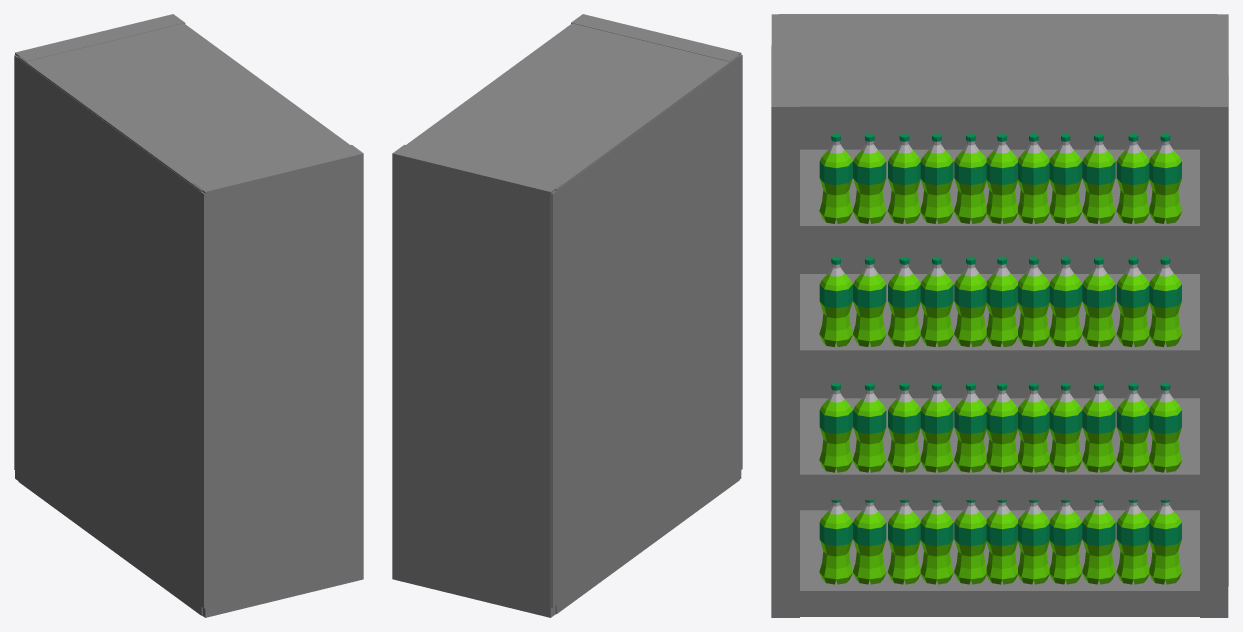
File: cream_soda_shelf.gltf
3 views of the same model, side by side, from view 1: azimuth 30°, elevation 25°; view 2: azimuth 150°, elevation 25°; view 3: azimuth 270°, elevation 25° (orthographic). The views are drawn at different scales.
Parts seen in each view (by area): view 1: Cube.025; view 2: Cube.025; view 3: Cube.025.
Boxes of the visible parts, x1,y1,x2,y2 form: Cube.025: (14, 14, 363, 617); Cube.025: (392, 14, 742, 617); Cube.025: (771, 14, 1228, 617).
Bounding box in the file's own units: 4.03 × 10.28 × 8.34.
Materials: 4 (1 with a texture image).
